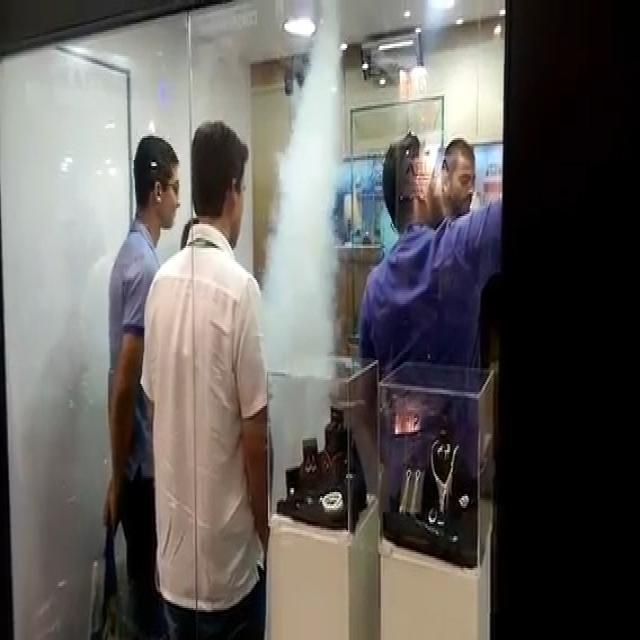Smoke: (260, 0, 342, 511)
